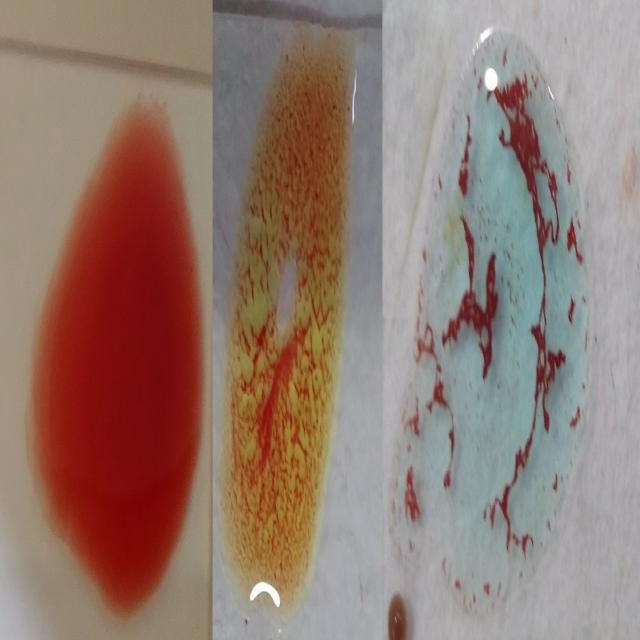A: (417, 34, 586, 618)
B: (226, 25, 352, 610)
